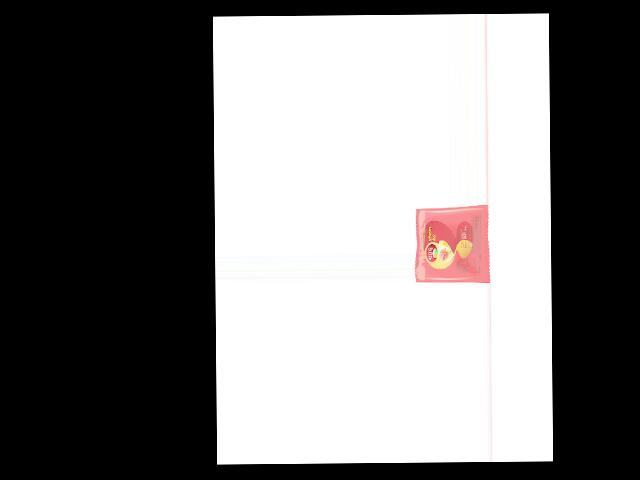cheese: (415, 207, 490, 284)
